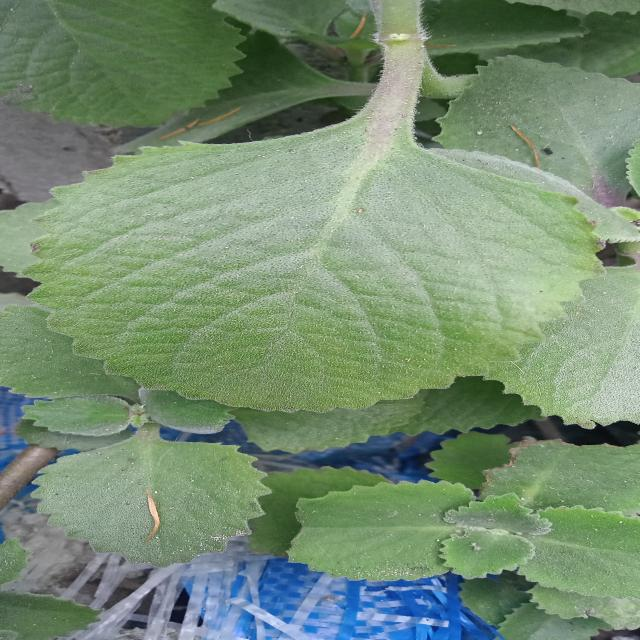Oregano: (28, 105, 616, 426), (329, 454, 636, 595)
